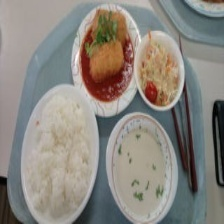rice: (19, 91, 96, 224)
